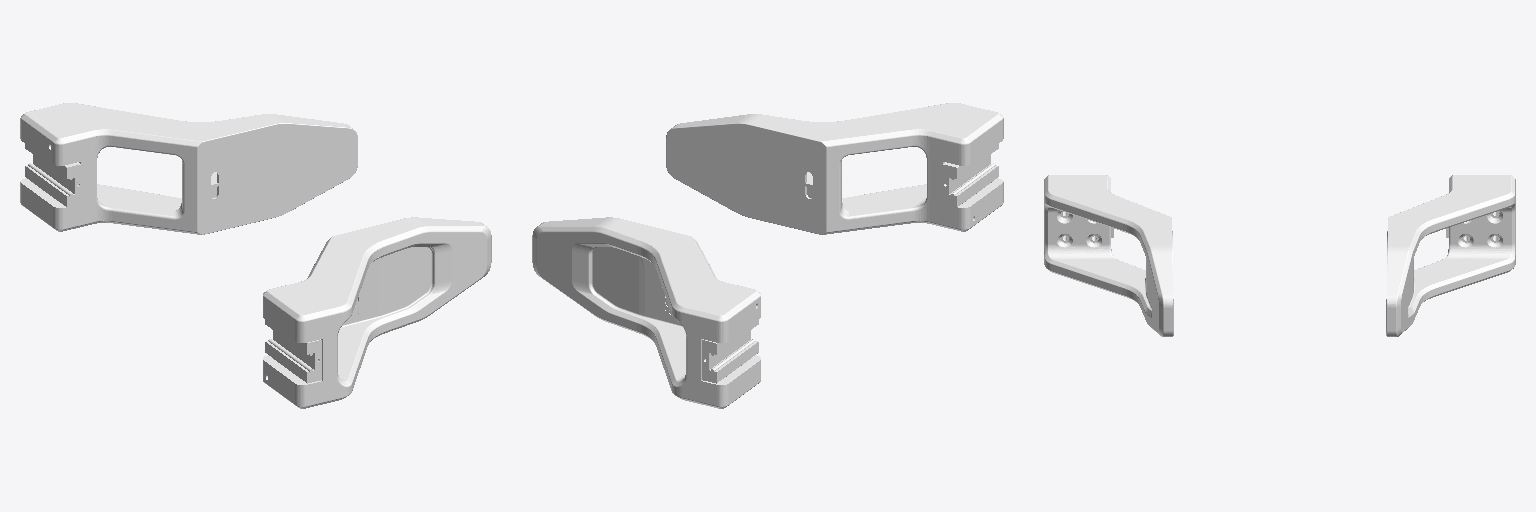
The robot description file, URDF, robot "pika_gripper_description":
<?xml version="1.0" encoding="utf-8"?>
<!-- This URDF was automatically created by SolidWorks to URDF Exporter! Originally created by [author] ([email redacted]) 
     Commit Version: 1.6.0-4-g7f85cfe  Build Version: 1.6.7995.38578
     For more information, please see http://wiki.ros.org/sw_urdf_exporter -->
<robot
  name="pika_gripper_description">
  <link
    name="gripper_base_link">
    <inertial>
      <origin
        xyz="0.037477 -8.1437E-07 0.0084053"
        rpy="0 0 0" />
      <mass
        value="0.18972" />
      <inertia
        ixx="0.0002159"
        ixy="3.3333E-08"
        ixz="-2.6278E-06"
        iyy="0.00014308"
        iyz="1.6782E-08"
        izz="0.00011036" />
    </inertial>
    <visual>
      <origin
        xyz="0 0 0"
        rpy="0 0 0" />
      <geometry>
        <mesh
          filename="package://pika_gripper_description/meshes/gripper_base_link.STL" />
      </geometry>
      <material
        name="">
        <color
          rgba="1 1 1 1" />
      </material>
    </visual>
    <collision>
      <origin
        xyz="0 0 0"
        rpy="0 0 0" />
      <geometry>
        <mesh
          filename="package://pika_gripper_description/meshes/gripper_base_link.STL" />
      </geometry>
    </collision>
  </link>
  <link
    name="gripper_left_link">
    <inertial>
      <origin
        xyz="0.033255 -0.014661 -0.0057614"
        rpy="0 0 0" />
      <mass
        value="0.033674" />
      <inertia
        ixx="1.5284E-05"
        ixy="1.4473E-05"
        ixz="1.4911E-08"
        iyy="3.448E-05"
        iyz="-4.3614E-09"
        izz="3.9744E-05" />
    </inertial>
    <visual>
      <origin
        xyz="0 0 0"
        rpy="0 0 0" />
      <geometry>
        <mesh
          filename="package://pika_gripper_description/meshes/gripper_left_link.STL" />
      </geometry>
      <material
        name="">
        <color
          rgba="1 1 1 1" />
      </material>
    </visual>
    <collision>
      <origin
        xyz="0 0 0"
        rpy="0 0 0" />
      <geometry>
        <mesh
          filename="package://pika_gripper_description/meshes/gripper_left_link.STL" />
      </geometry>
    </collision>
  </link>
  <joint
    name="gripper_left_joint"
    type="prismatic">
    <origin
      xyz="0.0815 0.08851 0.0064182"
      rpy="0 0 0" />
    <parent
      link="gripper_base_link" />
    <child
      link="gripper_left_link" />
    <axis
      xyz="0 1 0" />
    <limit
      lower="-0.05"
      upper="0"
      effort="100"
      velocity="5" />
  </joint>
  <link
    name="gripper_right_link">
    <inertial>
      <origin
        xyz="0.033255 0.014661 -0.0058113"
        rpy="0 0 0" />
      <mass
        value="0.033674" />
      <inertia
        ixx="1.5284E-05"
        ixy="-1.4473E-05"
        ixz="-1.4956E-08"
        iyy="3.448E-05"
        iyz="-4.3614E-09"
        izz="3.9744E-05" />
    </inertial>
    <visual>
      <origin
        xyz="0 0 0"
        rpy="0 0 0" />
      <geometry>
        <mesh
          filename="package://pika_gripper_description/meshes/gripper_right_link.STL" />
      </geometry>
      <material
        name="">
        <color
          rgba="1 1 1 1" />
      </material>
    </visual>
    <collision>
      <origin
        xyz="0 0 0"
        rpy="0 0 0" />
      <geometry>
        <mesh
          filename="package://pika_gripper_description/meshes/gripper_right_link.STL" />
      </geometry>
    </collision>
  </link>
  <joint
    name="gripper_right_joint"
    type="prismatic">
    <origin
      xyz="0.0815 -0.088529 0.0064182"
      rpy="0 0 0" />
    <parent
      link="gripper_base_link" />
    <child
      link="gripper_right_link" />
    <axis
      xyz="0 1 0" />
    <limit
      lower="0"
      upper="0.05"
      effort="100"
      velocity="5" />
  </joint>
</robot>

--- What the picture shows (computed from the rendered views, not written in the file) ---
The picture shows the robot from 3 angles, left to right: view 1: azimuth 30°, elevation 25°; view 2: azimuth 150°, elevation 25°; view 3: azimuth 270°, elevation 25°; orthographic projection.
Model pika_gripper_description with 3 links and 2 joints (2 prismatic), rooted at gripper_base_link, posed every joint at zero.
Links seen in each view (by area): view 1: gripper_left_link, gripper_right_link; view 2: gripper_right_link, gripper_left_link; view 3: gripper_left_link, gripper_right_link.
Link boxes in pixels (left/top/right/bottom): gripper_left_link: left=20, top=103, right=357, bottom=234; gripper_right_link: left=263, top=217, right=491, bottom=408; gripper_right_link: left=666, top=103, right=1003, bottom=234; gripper_left_link: left=532, top=217, right=760, bottom=408; gripper_left_link: left=1386, top=175, right=1515, bottom=336; gripper_right_link: left=1044, top=175, right=1173, bottom=336.
Bounding box of the posed robot: 0.1121 × 0.208 × 0.0381 m (x, y, z).
2 mesh visuals loaded from 3 distinct referenced files (2 binary STL); not drawn: 1 (reference not matched to a file when rendering).
